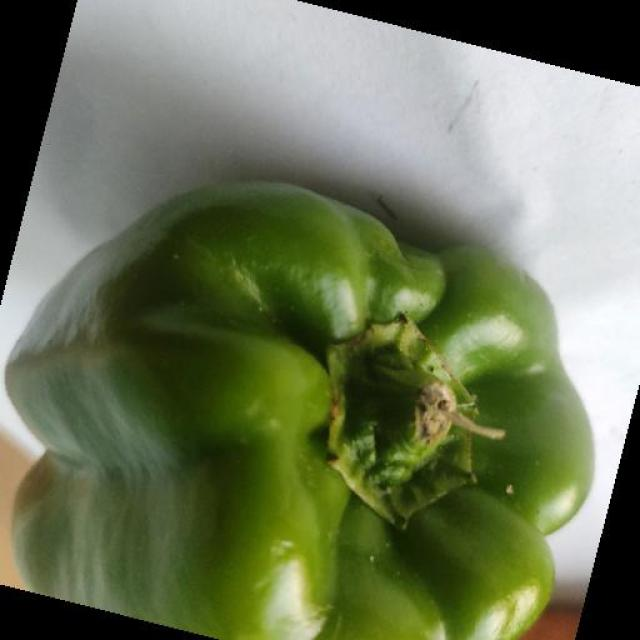Fresh_Capsicum: (17, 167, 604, 640)
